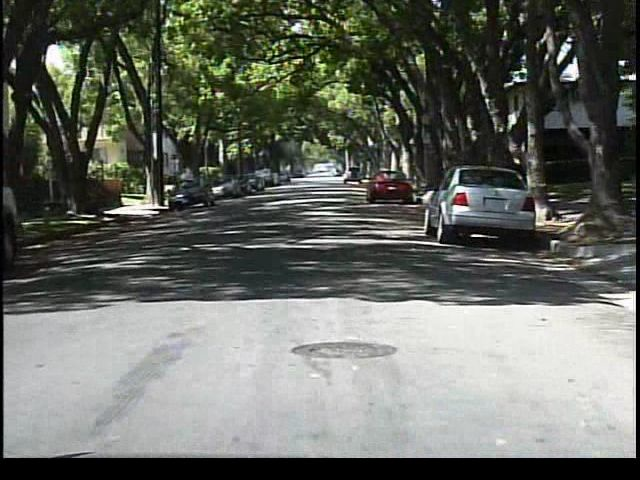person: (177, 170, 195, 202)
